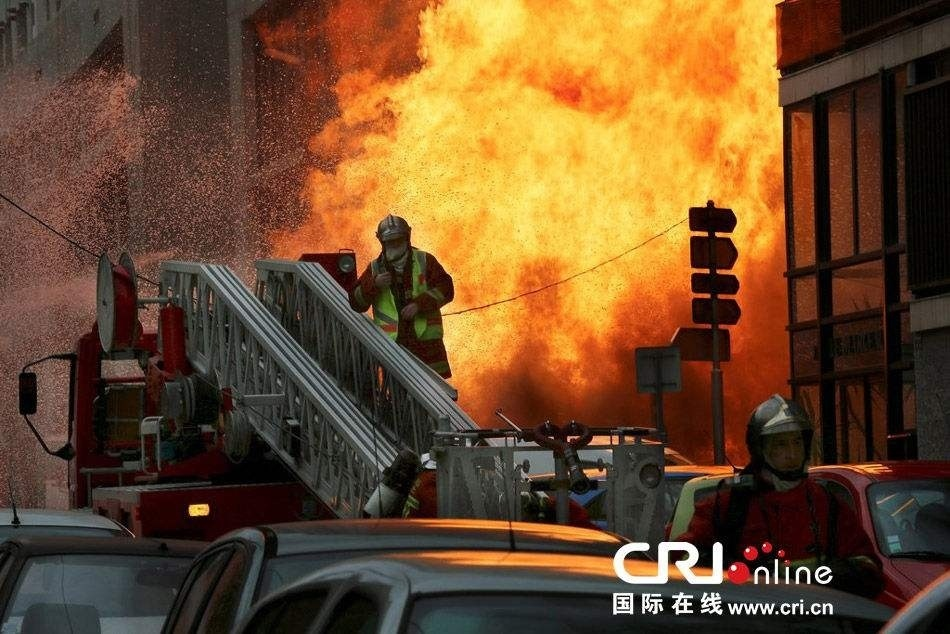fire: (284, 0, 807, 422)
